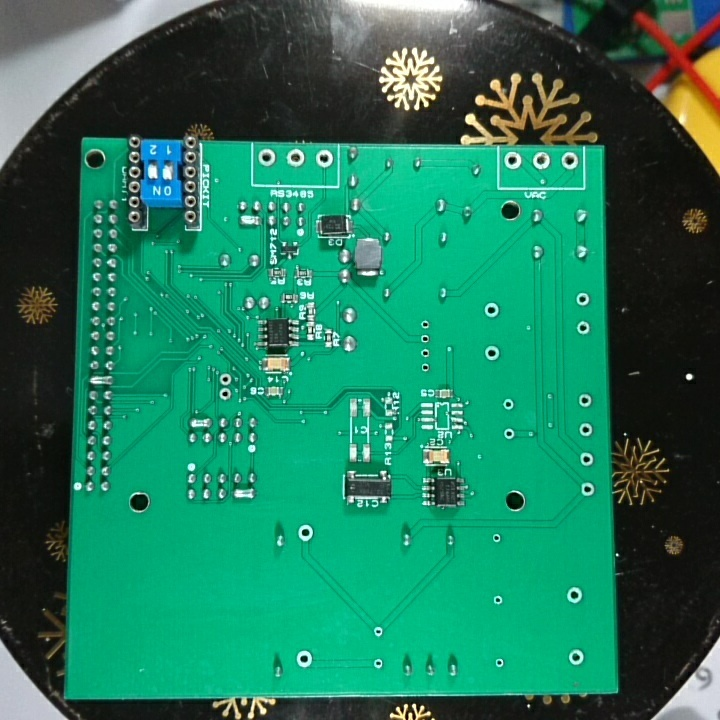F: (558, 150, 580, 175), (314, 147, 335, 172), (530, 150, 552, 173), (285, 146, 306, 169), (563, 585, 586, 606), (502, 148, 522, 172), (257, 146, 277, 168), (481, 343, 501, 365), (294, 648, 314, 670), (296, 523, 316, 543), (482, 300, 501, 321), (566, 648, 588, 666), (573, 290, 593, 309), (577, 392, 596, 412), (576, 420, 595, 438), (575, 318, 592, 338), (578, 450, 595, 469), (579, 480, 596, 498), (217, 370, 235, 387), (489, 530, 504, 549), (371, 623, 387, 640), (501, 395, 516, 413), (216, 386, 233, 401), (493, 655, 507, 673), (370, 656, 385, 672), (490, 592, 504, 609), (502, 426, 517, 441), (418, 316, 431, 331), (419, 345, 431, 361), (419, 330, 430, 346), (419, 360, 430, 375)
P: (186, 413, 213, 430), (230, 484, 256, 501), (236, 212, 262, 228), (87, 373, 114, 388)
